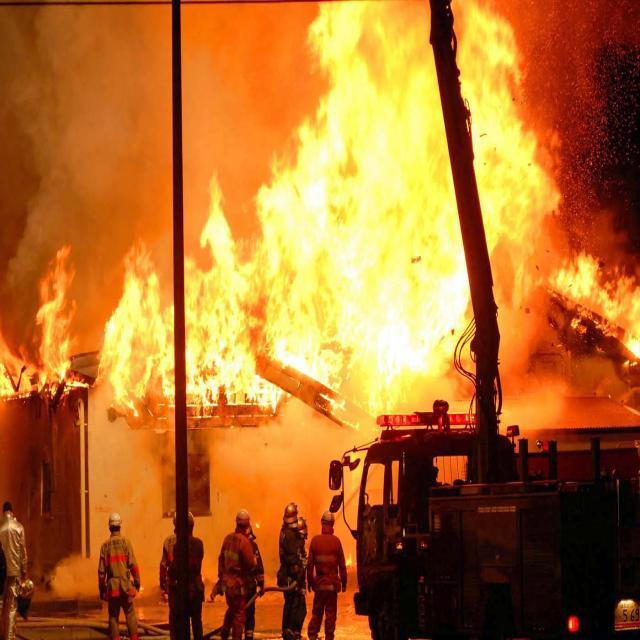Fire: (258, 7, 516, 412), (0, 244, 86, 406), (102, 238, 176, 420), (193, 213, 257, 414), (567, 262, 640, 344)
Smoke: (15, 9, 262, 218)
